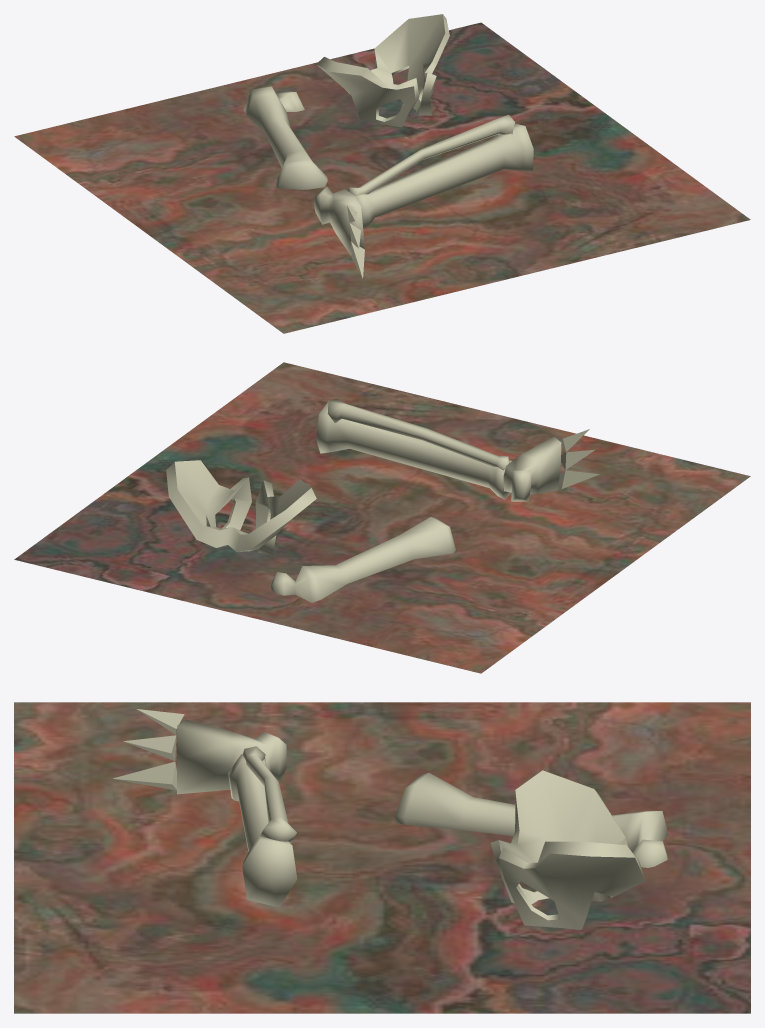
File: cave_floor_decor_007.glb
3 renders of one model, top to bottom at view 1: azimuth 30°, elevation 25°; view 2: azimuth 150°, elevation 25°; view 3: azimuth 270°, elevation 25°, orthographic. The views are drawn at different scales.
Parts seen in each view (by area): view 1: cave_floor_decor.007-col; view 2: cave_floor_decor.007-col; view 3: cave_floor_decor.007-col.
Part boxes in pixels (box(x1,y1,x2,y2)): cave_floor_decor.007-col: box(14, 14, 750, 333); cave_floor_decor.007-col: box(14, 362, 750, 673); cave_floor_decor.007-col: box(14, 702, 750, 1013).
Bounding box in the file's own units: 2 × 0.4223 × 2.
Materials: 2 (1 with a texture image).
